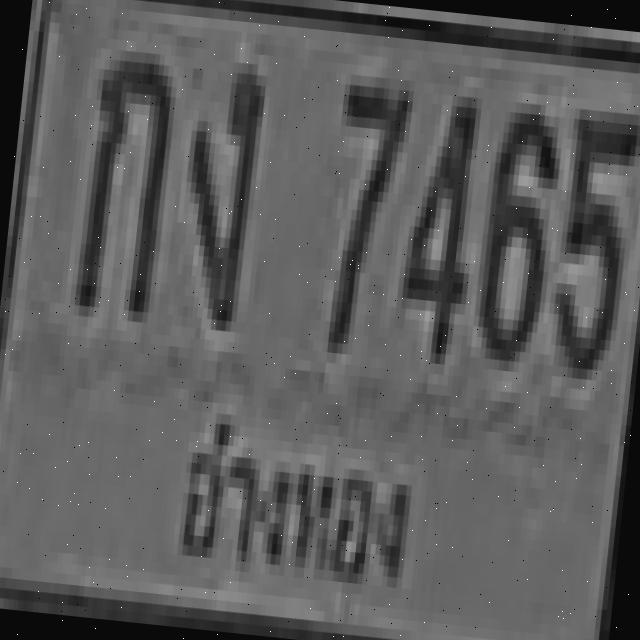10GorGai: (69, 37, 176, 312)
16NgorNgu: (172, 58, 263, 322)
4: (392, 82, 478, 354)
5: (545, 97, 640, 371)
6: (470, 100, 560, 363)
7: (318, 74, 410, 348)
AngThong: (155, 380, 439, 621)
